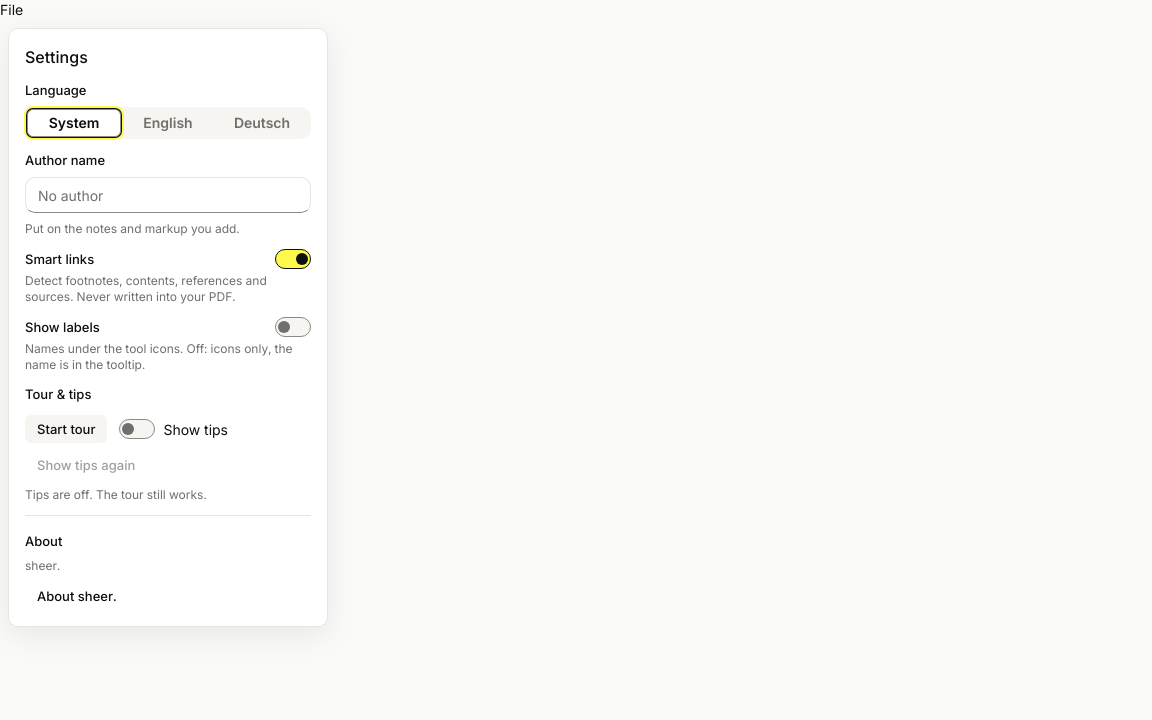
Test: the Show tips switch (DESIGN 3.13 C5) › off: hovering "Show tips again" shows the off hint as tooltip
The width and height of the screenshot is (1152, 720).
Step 1. Hover over the button "Show tips again" → (86, 465), box [25,451,147,479]
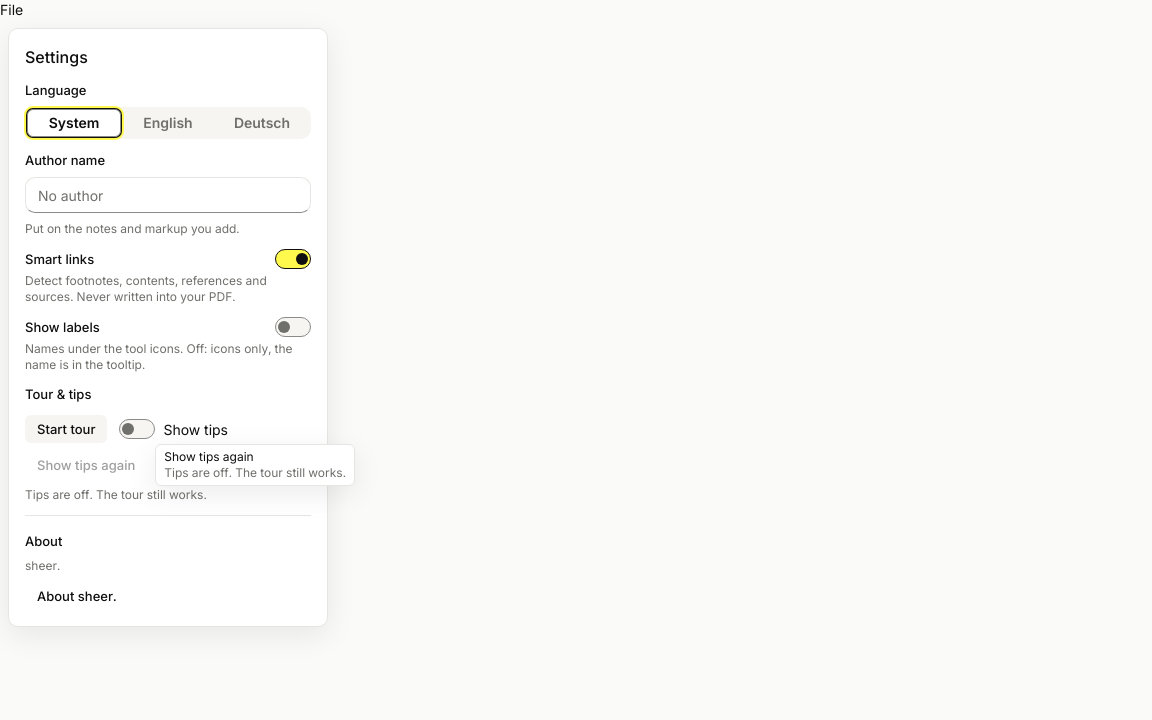
expect the tooltip "Show tips again Tips are off. The tour still works." is shown: met, box [155,444,355,486]
